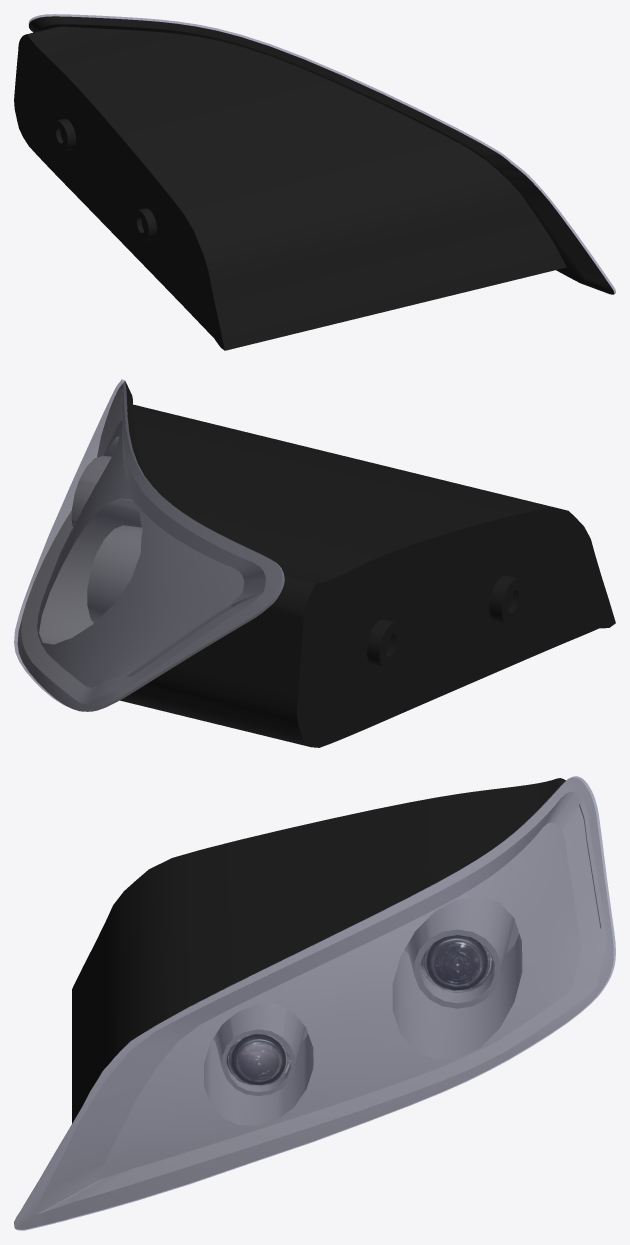
3 views of the same model, one above another, from view 1: azimuth 30°, elevation 25°; view 2: azimuth 150°, elevation 25°; view 3: azimuth 270°, elevation 25° (orthographic). The views are drawn at different scales.
Visible parts, largest first — view 1: LX24_061B_L_LX24_061B_L_2_D, LX24_061B_L_LX24_061B_L_5_DTaSI; view 2: LX24_061B_L_LX24_061B_L_2_D, LX24_061B_L_LX24_061B_L_5_DTaSI, LX24_061B_L_1_DaS_LX24_061B_L; view 3: LX24_061B_L_LX24_061B_L_5_DTaSI, LX24_061B_L_1_DaS_LX24_061B_L, LX24_061B_L_LX24_061B_L_2_D, LX24_061B_L_LX24_061B_L_3_N, LX24_061B_L_LX24_061B_L_4_N.
Boxes of the visible parts, x1,y1,x2,y2 form: LX24_061B_L_LX24_061B_L_2_D: (14,16,614,350); LX24_061B_L_LX24_061B_L_5_DTaSI: (28,14,615,293); LX24_061B_L_LX24_061B_L_2_D: (120,381,615,747); LX24_061B_L_LX24_061B_L_5_DTaSI: (14,379,284,711); LX24_061B_L_1_DaS_LX24_061B_L: (17,381,284,711); LX24_061B_L_LX24_061B_L_5_DTaSI: (14,776,615,1230); LX24_061B_L_1_DaS_LX24_061B_L: (14,777,613,1229); LX24_061B_L_LX24_061B_L_2_D: (72,778,565,1123); LX24_061B_L_LX24_061B_L_3_N: (420,935,494,993); LX24_061B_L_LX24_061B_L_4_N: (226,1033,290,1086).
Size of the model in its own units: 56 by 28.5 by 62.96.
